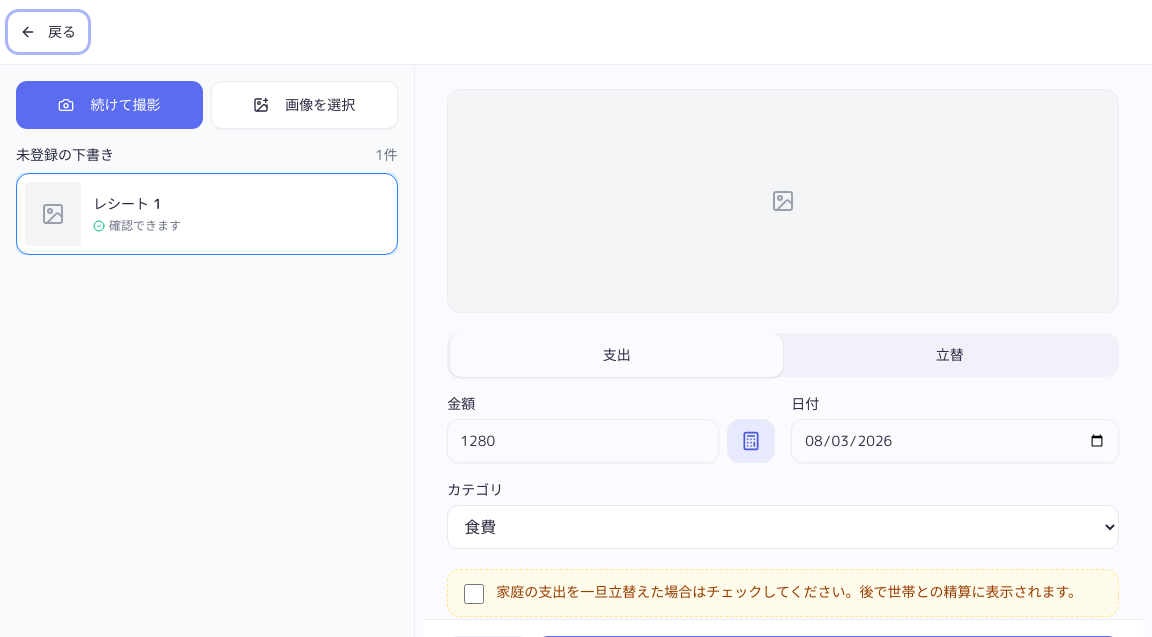
Scenario: ReceiptCaptureModal › OCR結果を手入力と同じ金額フォームで確認し、立替入力へ切り替えられる
Expected: the field labelled "金額" holds "1280", top-left (447, 419), bottom-right (719, 463)
Expected: the button named "かんたん電卓を開く" is shown, top-left (727, 419), bottom-right (775, 463)
Press the mouse on the tab "立替" at (950, 355), box top-left (783, 333), bottom-right (1116, 377)
(page scrolled)
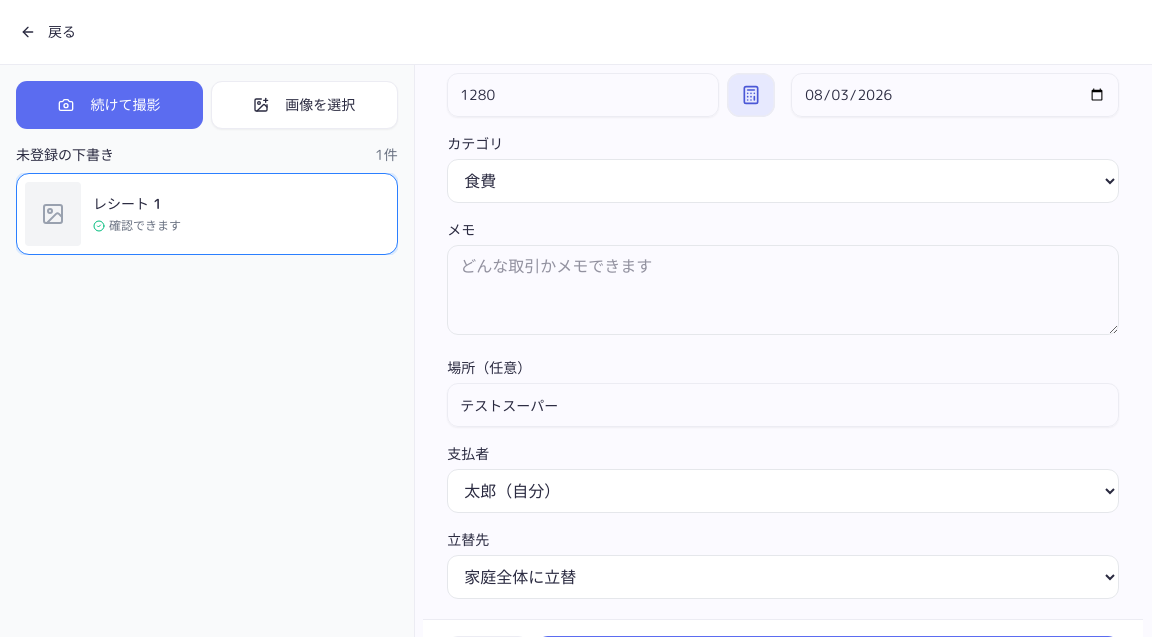
Expected: the dropdown labelled "立替先" is shown, top-left (447, 555), bottom-right (1119, 599)
Expected: the dropdown labelled "支払者" shows "太郎（自分）", top-left (447, 469), bottom-right (1119, 513)
